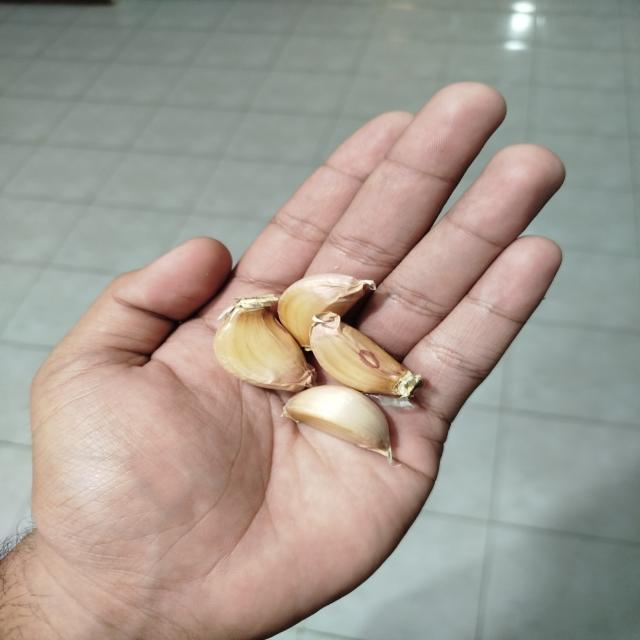garlic: (307, 310, 424, 406), (212, 294, 317, 393), (280, 384, 396, 466), (277, 272, 377, 350)
